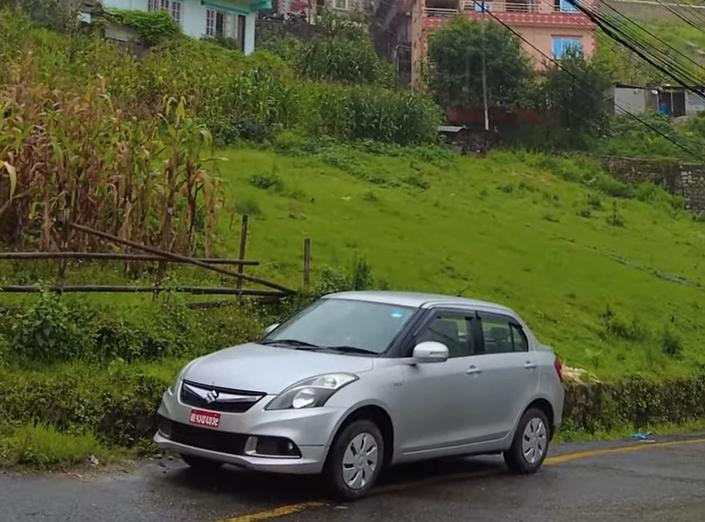car: (140, 286, 569, 480)
